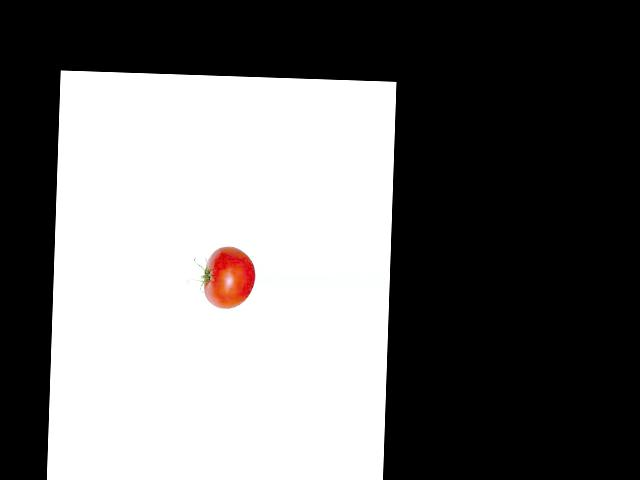tomato: (203, 246, 256, 309)
